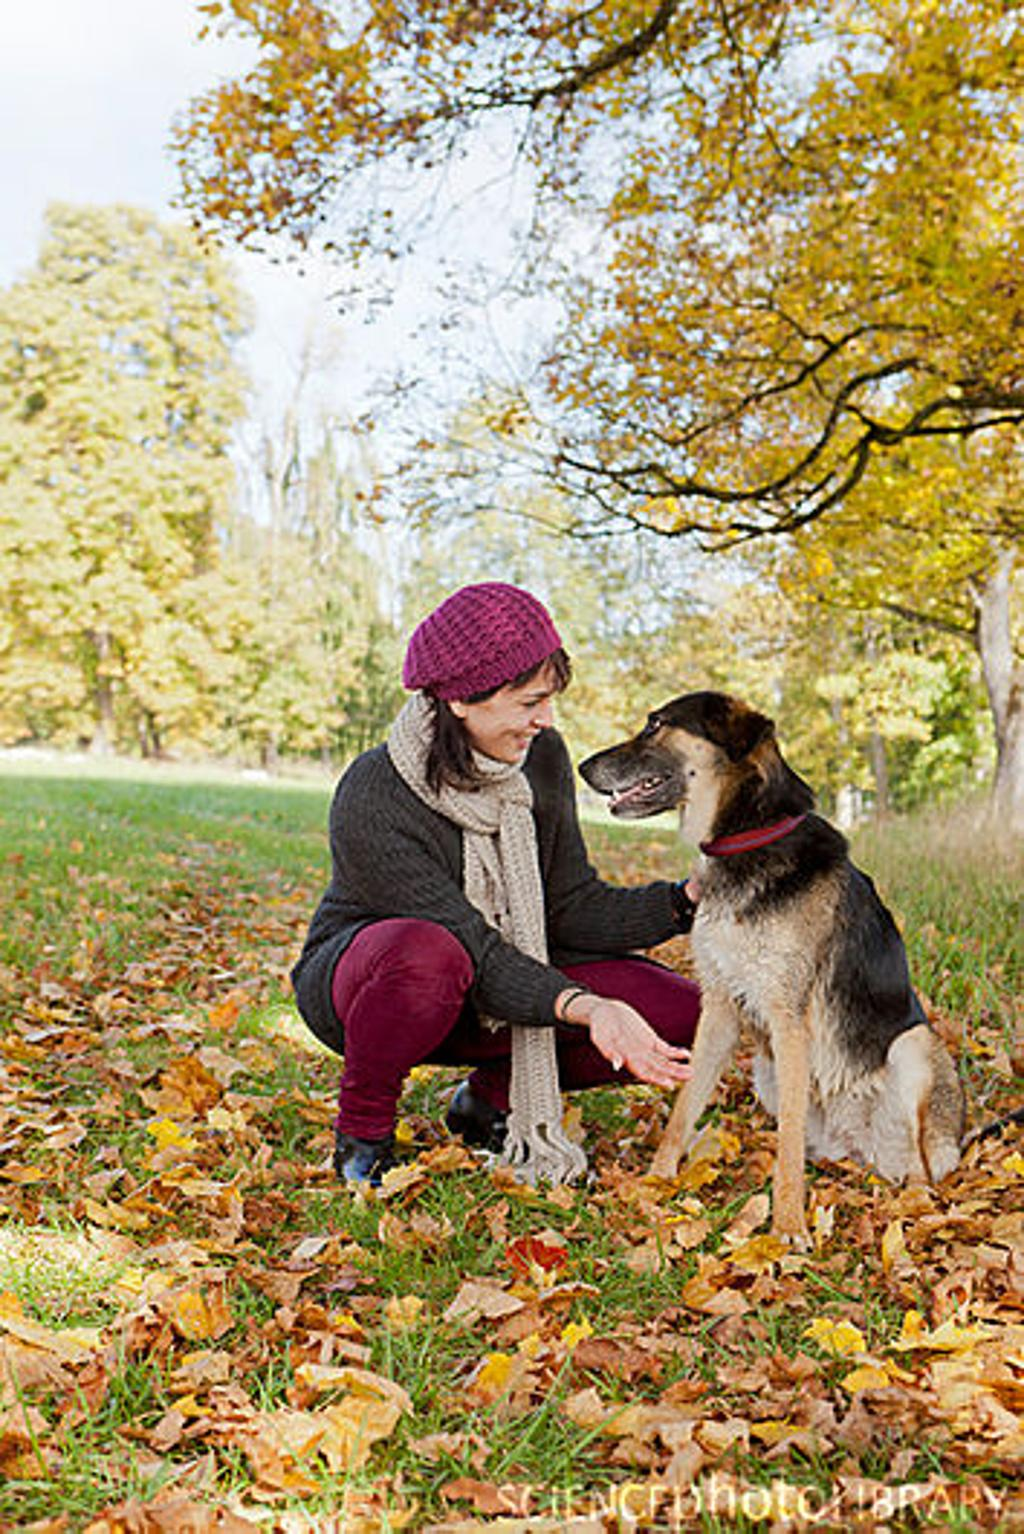face: (488, 662, 560, 764)
